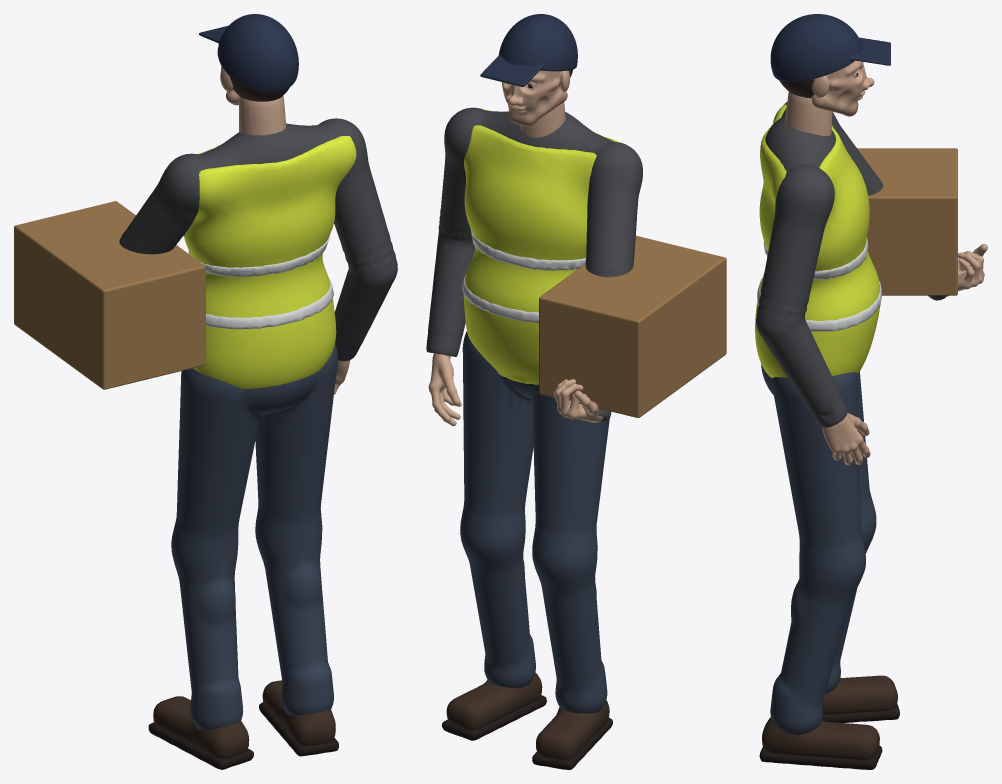
The model's file is hivis_door.glb.
3 views of the same model, side by side, from view 1: azimuth 30°, elevation 25°; view 2: azimuth 150°, elevation 25°; view 3: azimuth 270°, elevation 25° (orthographic). The views are drawn at different scales.
Visible parts, largest first — view 1: hivis_door_body, case, hivis_door_head; view 2: hivis_door_body, case, hivis_door_head, hivis_door_hands; view 3: hivis_door_body, case, hivis_door_head, hivis_door_hands.
Part boxes in pixels (box(x1,y1,x2,y2)): hivis_door_body: box(119, 96, 397, 769); case: box(14, 201, 205, 389); hivis_door_head: box(199, 14, 298, 105); hivis_door_body: box(428, 102, 642, 769); case: box(539, 235, 726, 417); hivis_door_head: box(480, 14, 577, 126); hivis_door_hands: box(426, 329, 611, 426); hivis_door_body: box(755, 92, 899, 769); case: box(857, 148, 957, 295); hivis_door_head: box(770, 14, 890, 116); hivis_door_hands: box(810, 244, 987, 465).
Bounding box in the file's own units: 0.7473 × 1.78 × 0.5203.
